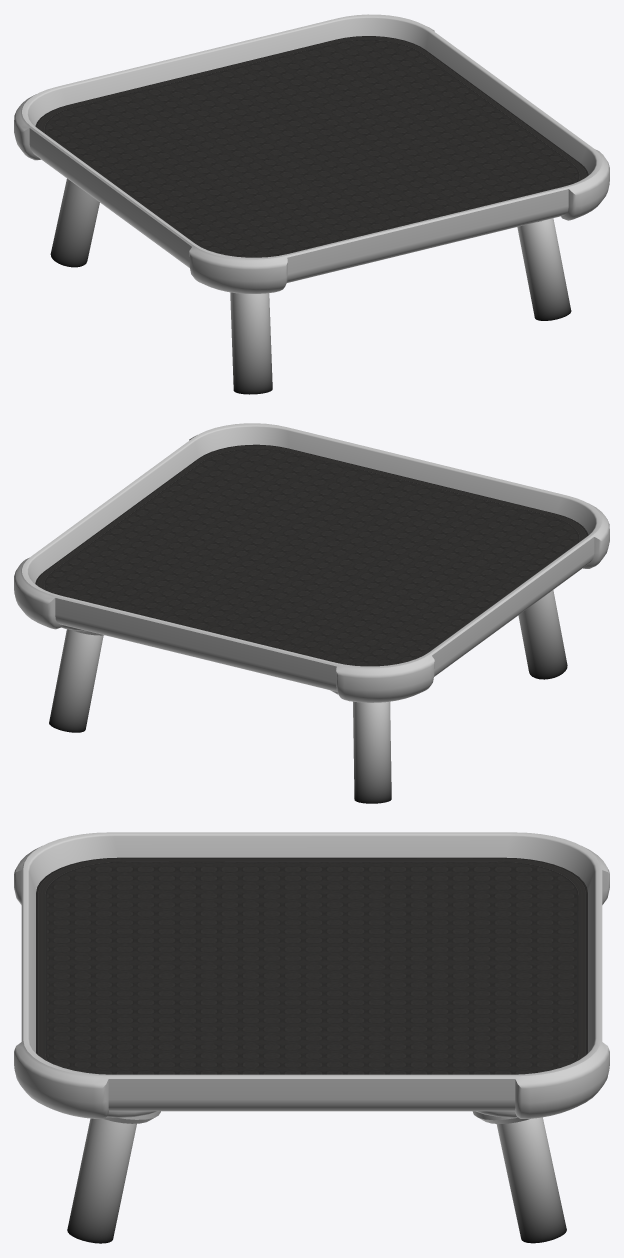
The model's file is HoveringPlatform.fbx.
3 views of the same model, one above another, from view 1: azimuth 30°, elevation 25°; view 2: azimuth 150°, elevation 25°; view 3: azimuth 270°, elevation 25° (orthographic). The views are drawn at different scales.
Visible parts, largest first — view 1: HoveringPlatformFloor, HoveringPlatformRim, HoveringPlatformActuator2Burst, HoveringPlatformActuator1Burst, HoveringPlatformActuator3Burst; view 2: HoveringPlatformFloor, HoveringPlatformRim, HoveringPlatformActuator3Burst, HoveringPlatformActuator4Burst, HoveringPlatformActuator2Burst; view 3: HoveringPlatformFloor, HoveringPlatformRim, HoveringPlatformActuator1Burst, HoveringPlatformActuator4Burst.
Part boxes in pixels (x1,y1,x2,y2): HoveringPlatformFloor: (35, 36, 588, 257); HoveringPlatformRim: (14, 14, 609, 293); HoveringPlatformActuator2Burst: (230, 292, 272, 394); HoveringPlatformActuator1Burst: (517, 218, 571, 320); HoveringPlatformActuator3Burst: (50, 178, 99, 267); HoveringPlatformFloor: (35, 444, 588, 666); HoveringPlatformRim: (14, 423, 609, 702); HoveringPlatformActuator3Burst: (353, 701, 391, 803); HoveringPlatformActuator4Burst: (49, 629, 103, 732); HoveringPlatformActuator2Burst: (518, 590, 567, 679); HoveringPlatformFloor: (36, 857, 587, 1074); HoveringPlatformRim: (14, 832, 609, 1118); HoveringPlatformActuator1Burst: (67, 1118, 136, 1243); HoveringPlatformActuator4Burst: (496, 1117, 566, 1243).
Bounding box in the file's own units: 205 × 73.88 × 205.
